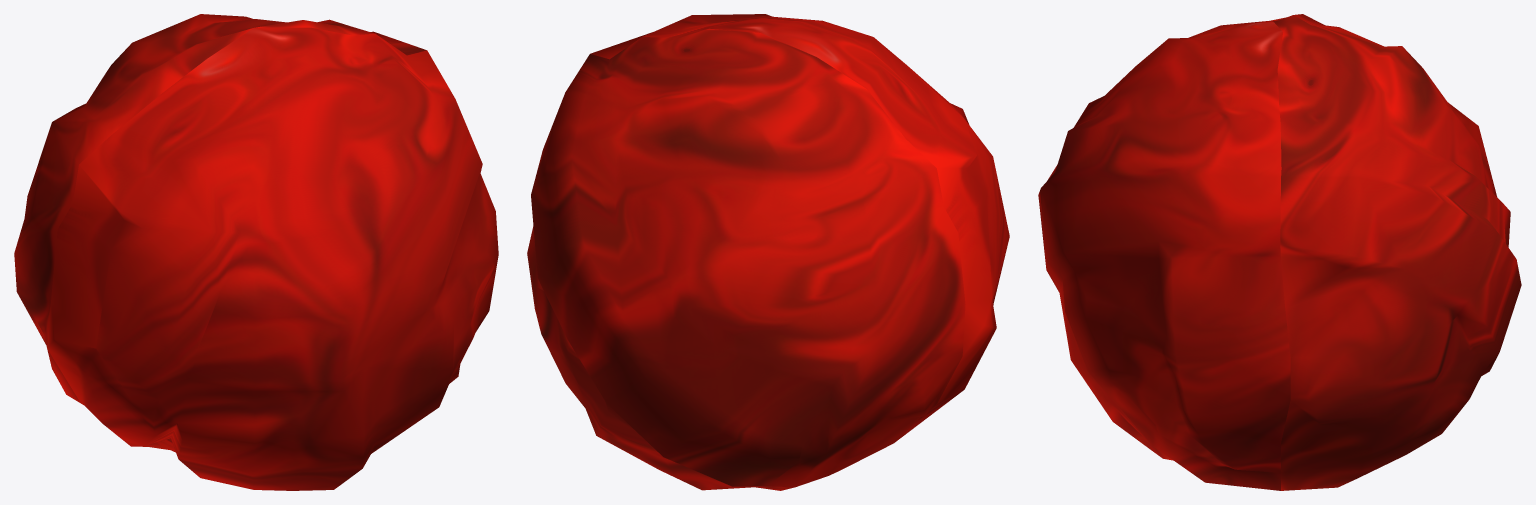
The model's file is Supplement_Bullet.fbx.
3 views of the same model, side by side, from view 1: azimuth 30°, elevation 25°; view 2: azimuth 150°, elevation 25°; view 3: azimuth 270°, elevation 25° (orthographic).
Parts seen in each view (by area): view 1: prop_BFGammo_301; view 2: prop_BFGammo_301; view 3: prop_BFGammo_301.
Part boxes in pixels (<box>): prop_BFGammo_301: <box>14,14,498,490</box>; prop_BFGammo_301: <box>527,14,1009,490</box>; prop_BFGammo_301: <box>1038,14,1521,490</box>.
Bounding box in the file's own units: 0.5386 × 0.5332 × 0.5393.
1 material, 1 textured.
